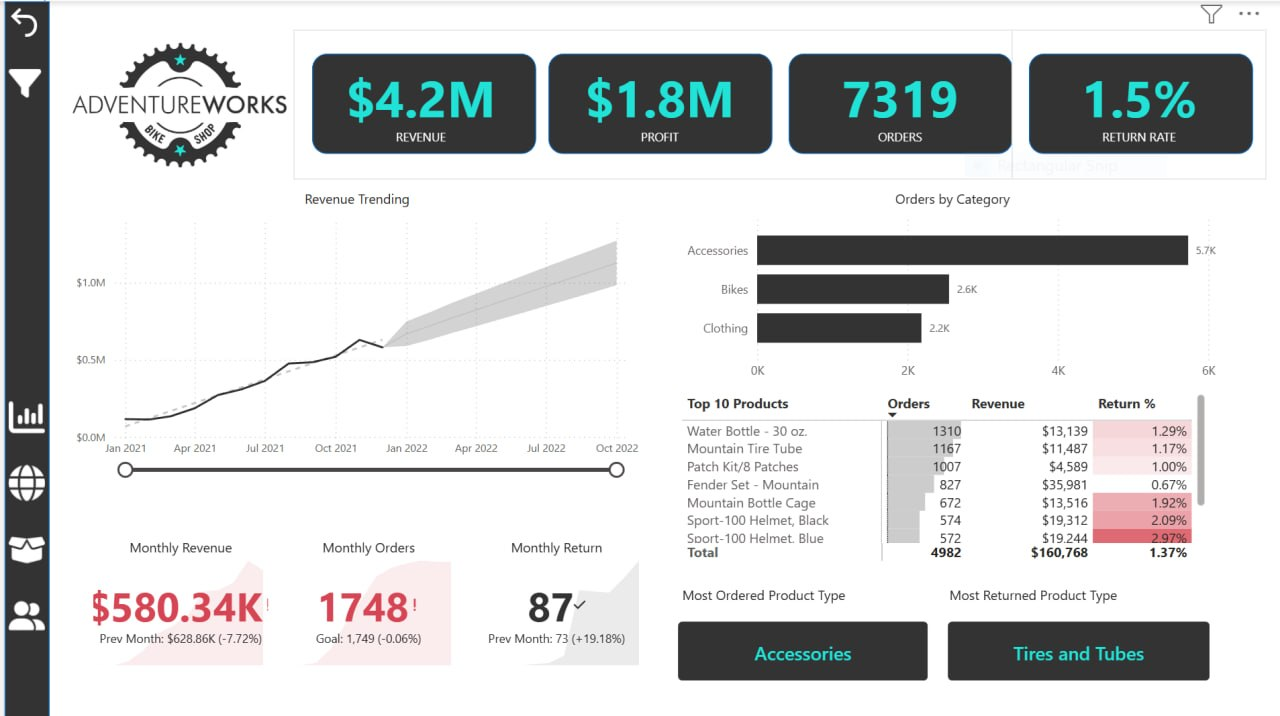

This screenshot's page, from the dashboard's own definition file:
{"tool":"powerbi","page":{"name":"Exec Dashboard","canvas":[1280,720],"ordinal":0},"visuals":[{"type":"image","title":"AW Logo","box":[44.6,1.4,263.2,205.7],"z":0},{"type":"card","fields":{"Values":["Measure Table.Total Revenue"]},"box":[289.1,28.8,255.5,150],"z":0,"group":"g2"},{"type":"group","id":"g1","title":"KPI Backgrounds","box":[307.8,53.2,942,100.7],"z":0,"group":"g3"},{"type":"shape","box":[307.8,53.2,224.4,100.7],"z":0,"group":"g1"},{"type":"actionButton","box":[0,390.3,44.3,54.5],"z":0,"group":"g4"},{"type":"shape","title":"Left Nav Background","box":[0,0,45,719.8],"z":1000},{"type":"group","id":"g2","title":"KPI Values","box":[289.1,28.8,975.3,150],"z":1000,"group":"g3"},{"type":"card","fields":{"Values":["Measure Table.Return Rate"]},"box":[1008.9,28.8,255.5,150],"z":1000,"group":"g2"},{"type":"shape","box":[545.1,53.2,224.4,100.7],"z":1000,"group":"g1"},{"type":"actionButton","box":[0,456.8,44.3,54.5],"z":1000,"group":"g4"},{"type":"group","id":"g3","title":"KPIs","box":[289.1,28.8,975.3,150],"z":2000},{"type":"card","fields":{"Values":["Measure Table.Total Orders"]},"box":[769,28.8,255.5,150],"z":2000,"group":"g2"},{"type":"shape","box":[785.3,53.2,224.4,100.7],"z":2000,"group":"g1"},{"type":"actionButton","box":[0,589.7,44.3,54.5],"z":2000,"group":"g4"},{"type":"card","fields":{"Values":["Measure Table.Total Profit"]},"box":[529,28.8,255.5,150],"z":3000,"group":"g2"},{"type":"shape","box":[1025.5,53.2,224.4,100.7],"z":3000,"group":"g1"},{"type":"lineChart","title":"Revenue Trending","fields":{"Y":["Measure Table.Total Revenue"],"Category":["Calendar Lookup.Year","Calendar Lookup.Start of Quarter","Calendar Lookup.Start of Month"]},"box":[65.9,188.2,574.1,292.5],"z":3000},{"type":"actionButton","box":[0,523.2,44.3,54.5],"z":3000,"group":"g4"},{"type":"kpi","title":"Monthly Revenue","fields":{"Indicator":["Measure Table.Total Revenue"],"TrendLine":["Calendar Lookup.Start of Month"],"Goal":["Measure Table.Previous Month Revenue"]},"box":[88.8,537.4,175.1,133.2],"z":4000},{"type":"kpi","title":"Monthly Orders","fields":{"Indicator":["Measure Table.Total Orders"],"TrendLine":["Calendar Lookup.Start of Month"],"Goal":["Measure Table.Previous Month Orders"]},"box":[277.1,537.4,175.1,133.2],"z":5000},{"type":"kpi","title":"Monthly Return","fields":{"TrendLine":["Calendar Lookup.Start of Month"],"Indicator":["Measure Table.Total Returns"],"Goal":["Measure Table.Previous Month Returns"]},"box":[465.5,537.4,175.1,133.2],"z":6000},{"type":"clusteredBarChart","title":"Orders by Category","fields":{"Y":["Measure Table.Total Orders"],"Category":["Product Categories Lookup.CategoryName"]},"box":[673.6,188.2,551.3,200.3],"z":7000},{"type":"pivotTable","fields":{"Rows":["Product Categories Lookup.CategoryName","Product Lookup.ProductName"],"Values":["Measure Table.Total Orders","Measure Table.Total Revenue","Measure Table.Return Rate"]},"box":[673.9,388.6,534.1,177.3],"z":8000},{"type":"cardVisual","fields":{"Data":["Min(Product Categories Lookup.CategoryName)"]},"box":[656.8,604.5,284.1,93.2],"z":9000},{"type":"textbox","box":[673.9,580.7,202.3,33],"z":10000},{"type":"cardVisual","fields":{"Data":["Min(Product Subcategories Lookup.SubcategoryName)"]},"box":[927.3,604.5,296.6,93.2],"z":11000},{"type":"textbox","box":[940.9,580.7,196.6,33],"z":12000},{"type":"group","id":"g4","title":"Navigation","box":[0,390.3,44.3,254],"z":14000},{"type":"actionButton","box":[0,62.4,45,40.6],"z":15000},{"type":"actionButton","box":[0,1.5,43.5,39.2],"z":16000}]}

Visuals, with their boxes on the page's 1280x720 design canvas (x1, y1, x2, y2). These are canvas units, not pixel positions in the 1280x716 screenshot, which may show the page scaled, cropped or inside an application window:
"AW Logo" image: box(45, 1, 308, 207)
card - Measure Table.Total Revenue: box(289, 29, 545, 179)
"KPI Backgrounds" group: box(308, 53, 1250, 154)
shape: box(308, 53, 532, 154)
actionButton: box(0, 390, 44, 445)
"Left Nav Background" shape: box(0, 0, 45, 720)
"KPI Values" group: box(289, 29, 1264, 179)
card - Measure Table.Return Rate: box(1009, 29, 1264, 179)
shape: box(545, 53, 770, 154)
actionButton: box(0, 457, 44, 511)
"KPIs" group: box(289, 29, 1264, 179)
card - Measure Table.Total Orders: box(769, 29, 1024, 179)
shape: box(785, 53, 1010, 154)
actionButton: box(0, 590, 44, 644)
card - Measure Table.Total Profit: box(529, 29, 784, 179)
shape: box(1026, 53, 1250, 154)
"Revenue Trending" lineChart: box(66, 188, 640, 481)
actionButton: box(0, 523, 44, 578)
"Monthly Revenue" kpi: box(89, 537, 264, 671)
"Monthly Orders" kpi: box(277, 537, 452, 671)
"Monthly Return" kpi: box(466, 537, 641, 671)
"Orders by Category" clusteredBarChart: box(674, 188, 1225, 388)
pivotTable - Product Categories Lookup.CategoryName x Product Lookup.ProductName: box(674, 389, 1208, 566)
cardVisual - Min(Product Categories Lookup.CategoryName): box(657, 604, 941, 698)
textbox: box(674, 581, 876, 614)
cardVisual - Min(Product Subcategories Lookup.SubcategoryName): box(927, 604, 1224, 698)
textbox: box(941, 581, 1138, 614)
"Navigation" group: box(0, 390, 44, 644)
actionButton: box(0, 62, 45, 103)
actionButton: box(0, 2, 44, 41)
